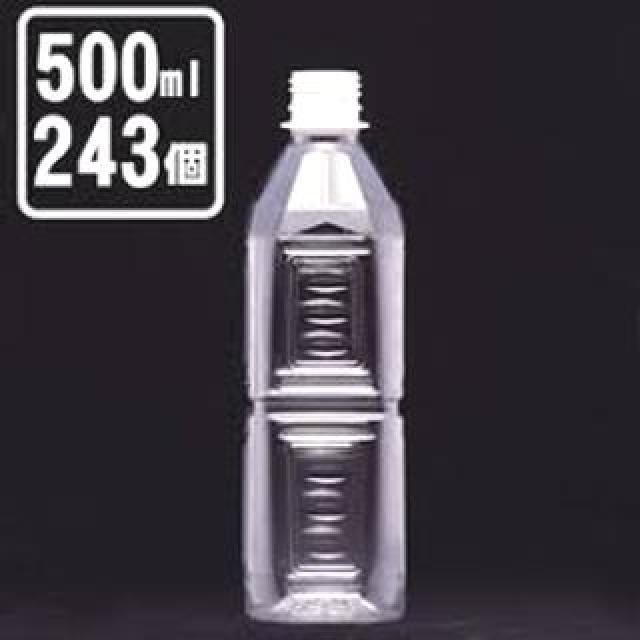Pet_Bottle: (237, 58, 425, 634)
